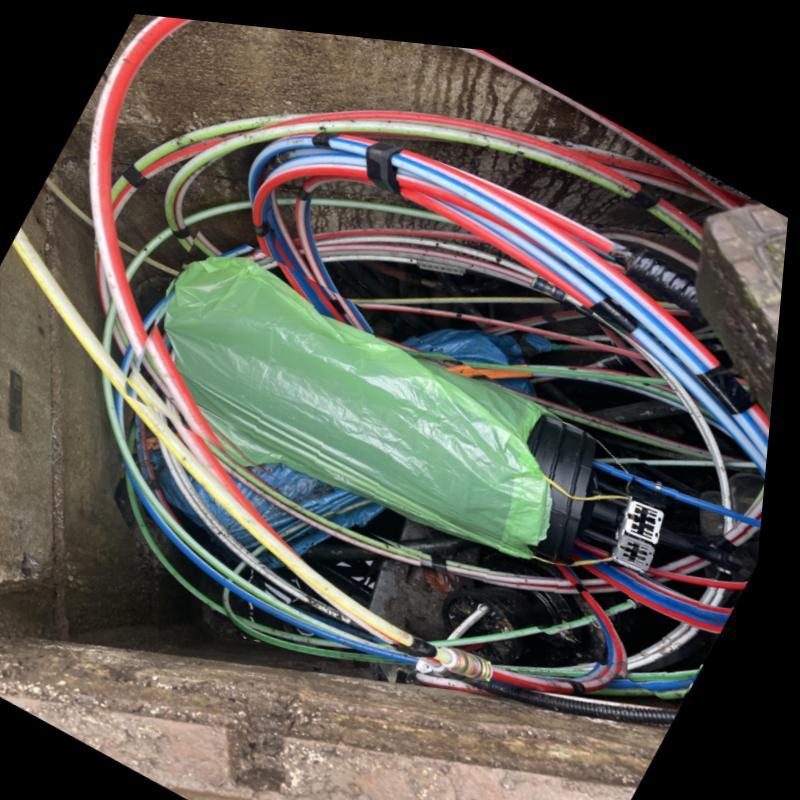NT-Muffen: (162, 249, 759, 563)
